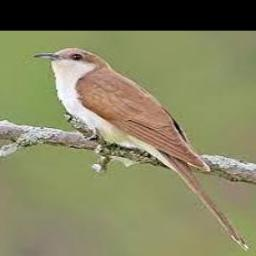Cuckoo: (32, 47, 250, 251)
